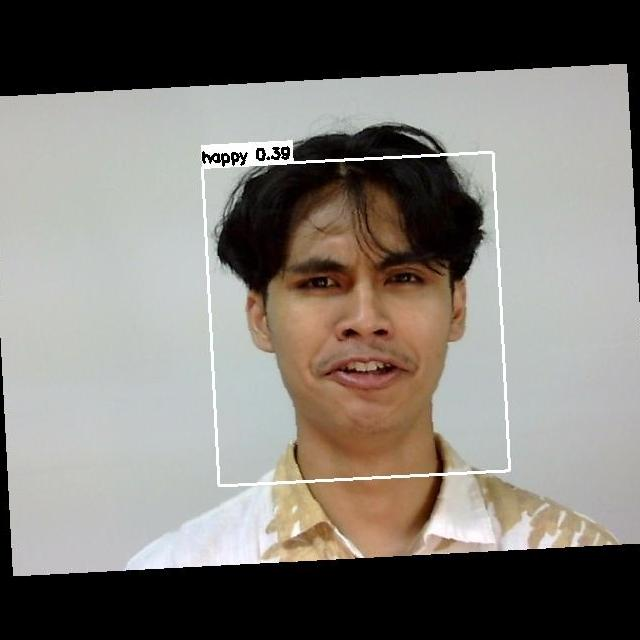Fear: (257, 240, 472, 408)
